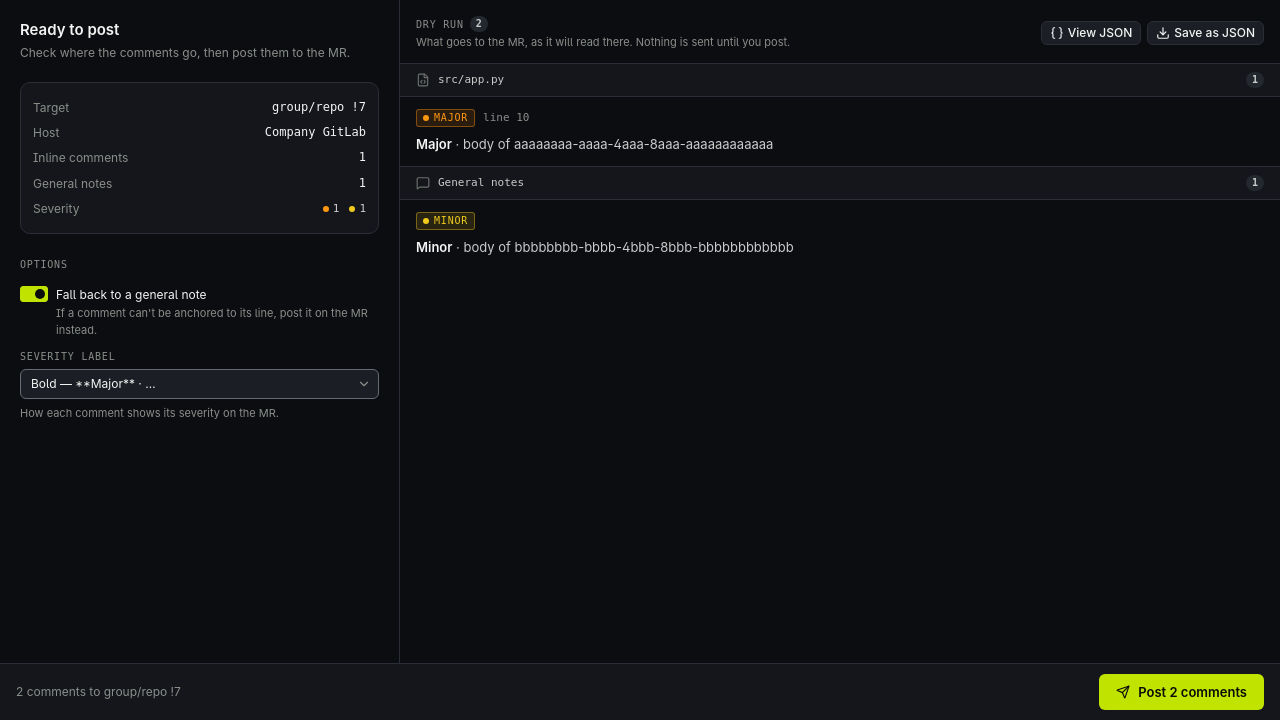
Test: PostStage › shows the server's refusal instead of a success screen
Click the button "Post 2 comments". click: (1182, 692)
box: [1099,674,1264,710]
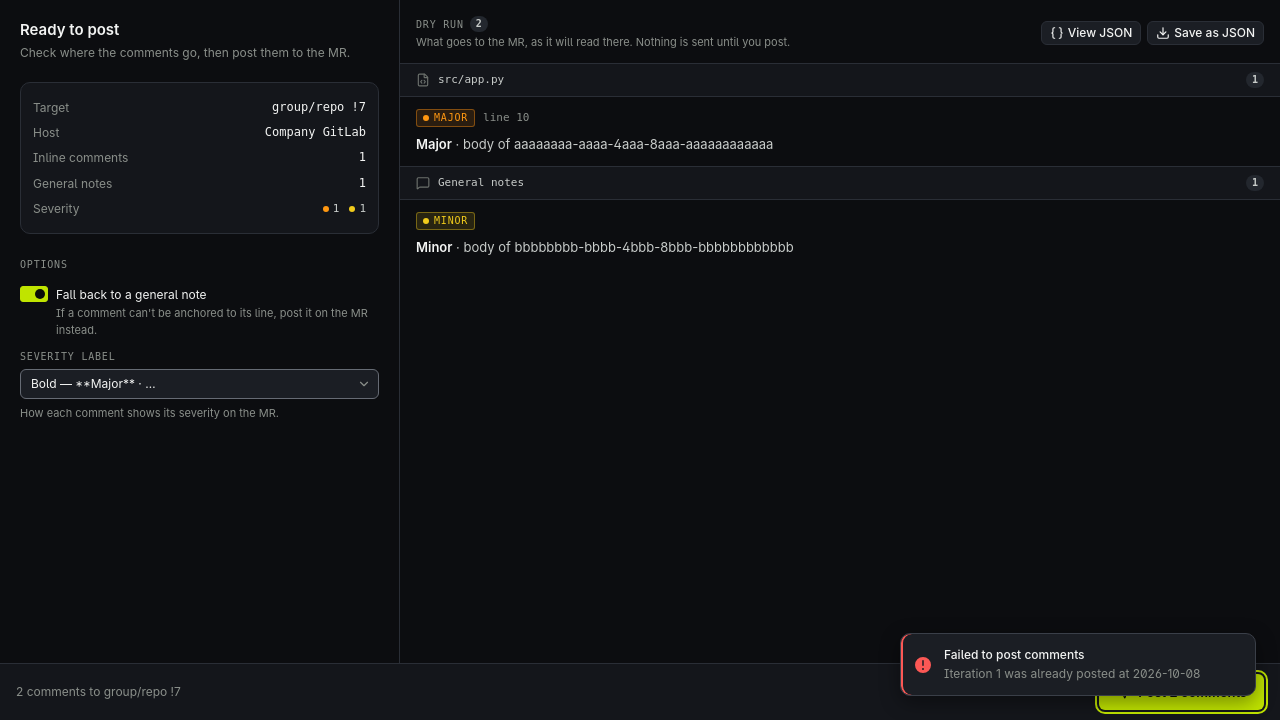
Expected: the heading "Ready to post" is shown, [20,20,119,39]
Result: the text "Failed to post comments" is shown at [944,647,1085,662]
Result: the text "Iteration 1 was already posted at 2026-10-08" is shown at [944,666,1200,683]
